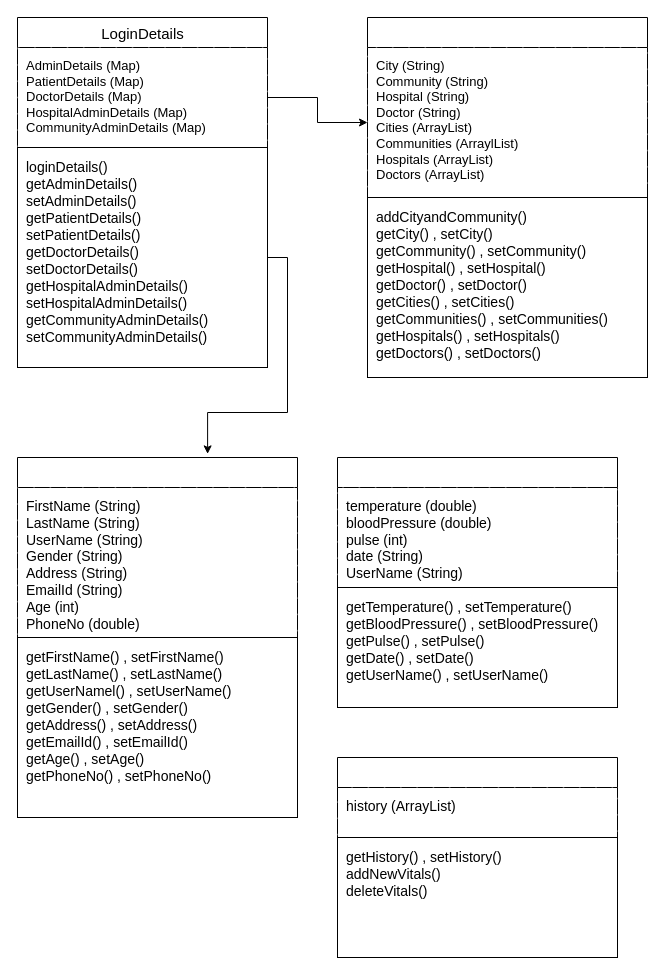
Some shapes in this 665 by 975 pixel diagram are drawn without their labels. Each missing label, with the box of its shape:
HospitalDetails: (366, 16, 648, 378)
PatientDetails: (16, 456, 298, 818)
VitalSigns: (336, 456, 618, 708)
VitalSignsHistory: (336, 756, 618, 958)
